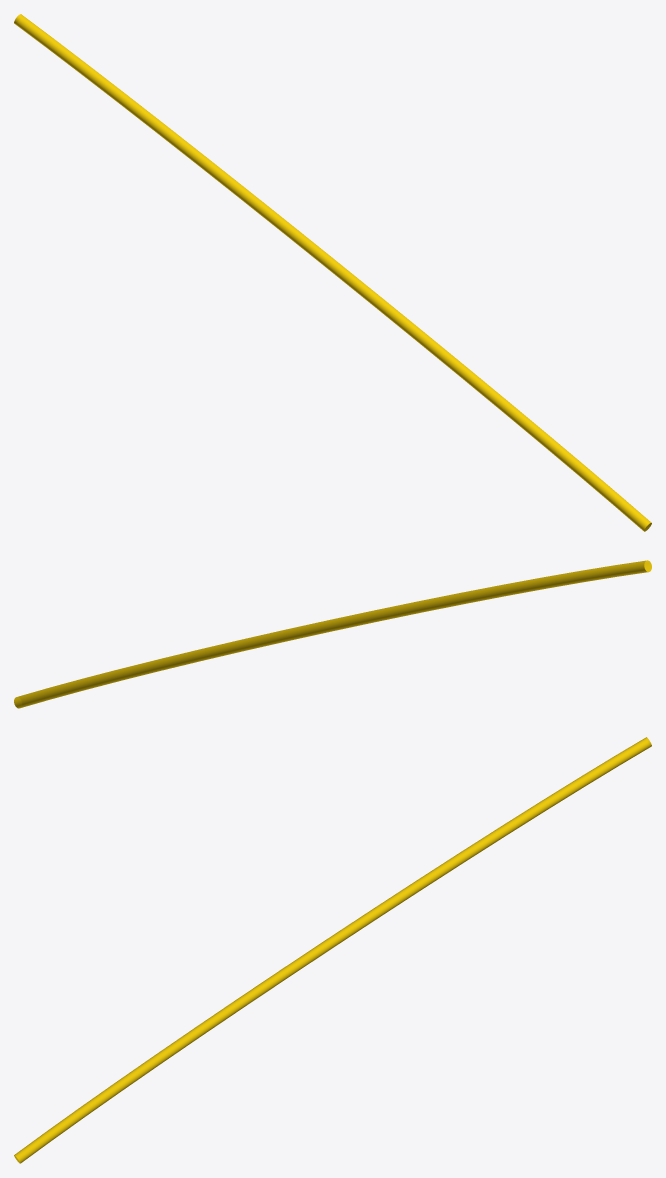
File: Event_421556567_track_2.fbx
The picture shows the model from 3 angles, top to bottom: view 1: azimuth 30°, elevation 25°; view 2: azimuth 210°, elevation 25°; view 3: azimuth 270°, elevation 25°; orthographic projection. The views are drawn at different scales.
Visible parts, largest first — view 1: Model; view 2: Model; view 3: Model.
Boxes of the visible parts, x1,y1,x2,y2 form: Model: (14,14,651,531); Model: (14,560,651,708); Model: (14,737,651,1163).
Size of the model in its own units: 1.14 by 1.24 by 2.38.
